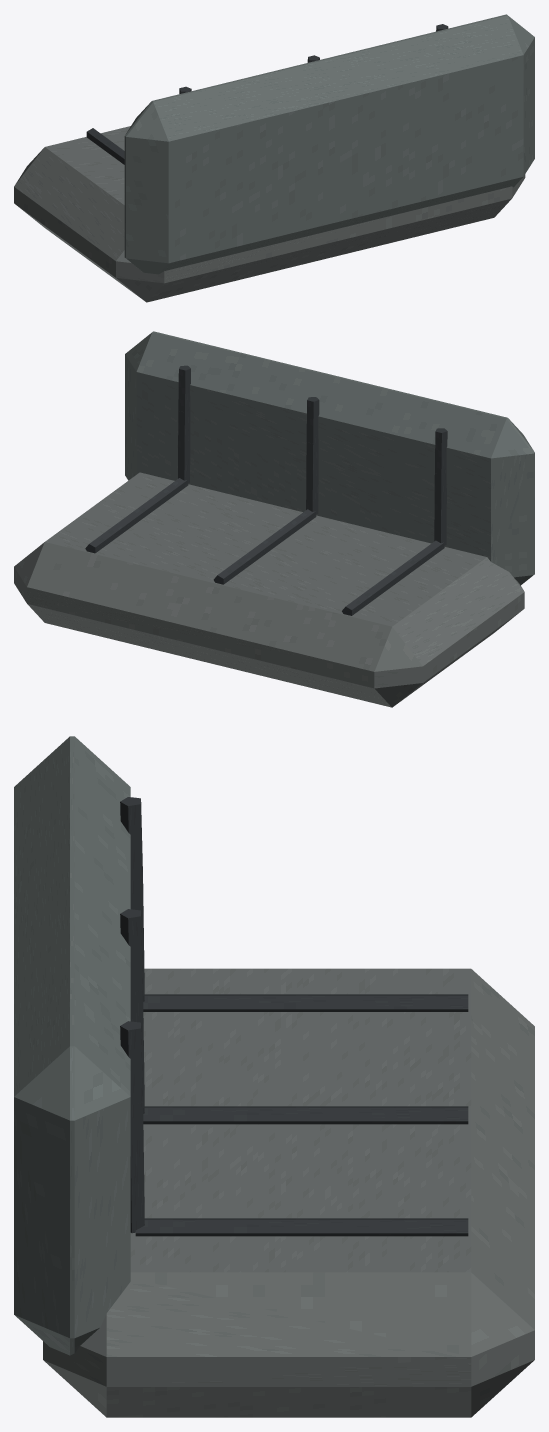
File: seat_bench.glb
3 views of the same model, one above another, from view 1: azimuth 30°, elevation 25°; view 2: azimuth 150°, elevation 25°; view 3: azimuth 270°, elevation 25° (orthographic). The views are drawn at different scales.
Parts seen in each view (by area): view 1: block_upholstered seat back, block_padded seat bench, block_stitched upholstery channel 0; view 2: block_padded seat bench, block_upholstered seat back, block_stitched upholstery channel 0 (×3), block_stitched upholstery channel 1 (×3), block_stitched upholstery channel 2 (×3); view 3: block_padded seat bench, block_upholstered seat back, block_stitched upholstery channel 0 (×3), block_stitched upholstery channel 2 (×3), block_stitched upholstery channel 1.
Boxes of the visible parts, bbox=[...] form: block_upholstered seat back: bbox=[124, 14, 534, 274]; block_padded seat bench: bbox=[14, 126, 525, 302]; block_stitched upholstery channel 0: bbox=[86, 128, 124, 164]; block_padded seat bench: bbox=[14, 472, 524, 707]; block_upholstered seat back: bbox=[125, 331, 534, 585]; block_stitched upholstery channel 0 (×3): bbox=[85, 478, 444, 615]; block_stitched upholstery channel 1 (×3): bbox=[178, 410, 446, 545]; block_stitched upholstery channel 2 (×3): bbox=[178, 365, 447, 474]; block_padded seat bench: bbox=[43, 968, 534, 1417]; block_upholstered seat back: bbox=[14, 736, 130, 1355]; block_stitched upholstery channel 0 (×3): bbox=[135, 994, 468, 1236]; block_stitched upholstery channel 2 (×3): bbox=[120, 797, 142, 1104]; block_stitched upholstery channel 1: bbox=[130, 1102, 144, 1233].
Bounding box in the file's own units: 0.3739 × 0.1825 × 0.2302.
1 material, 1 textured.
